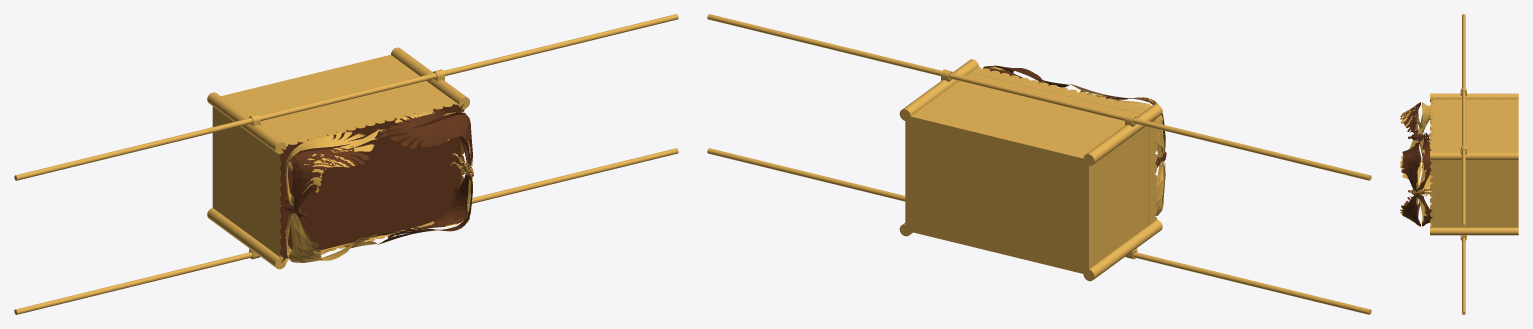
File: tabernacle-ark-alternative.staged.glb
The picture shows the model from 3 angles, left to right: view 1: azimuth 30°, elevation 25°; view 2: azimuth 150°, elevation 25°; view 3: azimuth 270°, elevation 25°; orthographic projection. The views are drawn at different scales.
Parts seen in each view (by area): view 1: Ark, Ark_0.001; view 2: Ark, Ark_0.001; view 3: Ark, Ark_0.001.
Part boxes in pixels (left/top/right/bottom): Ark: left=14, top=14, right=678, bottom=314; Ark_0.001: left=285, top=129, right=473, bottom=262; Ark: left=707, top=14, right=1371, bottom=314; Ark_0.001: left=1070, top=84, right=1165, bottom=215; Ark: left=1400, top=14, right=1518, bottom=314; Ark_0.001: left=1400, top=102, right=1432, bottom=196.
Bounding box in the file's own units: 9 × 1.85 × 2.15.
